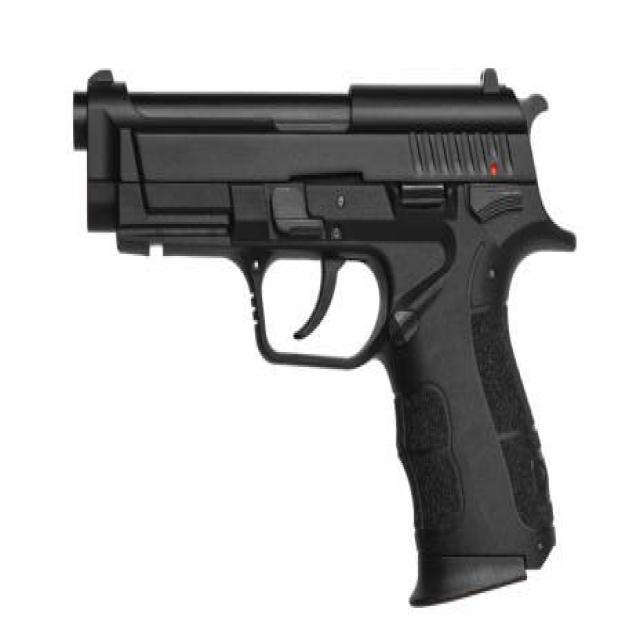pistol: (66, 60, 587, 609)
